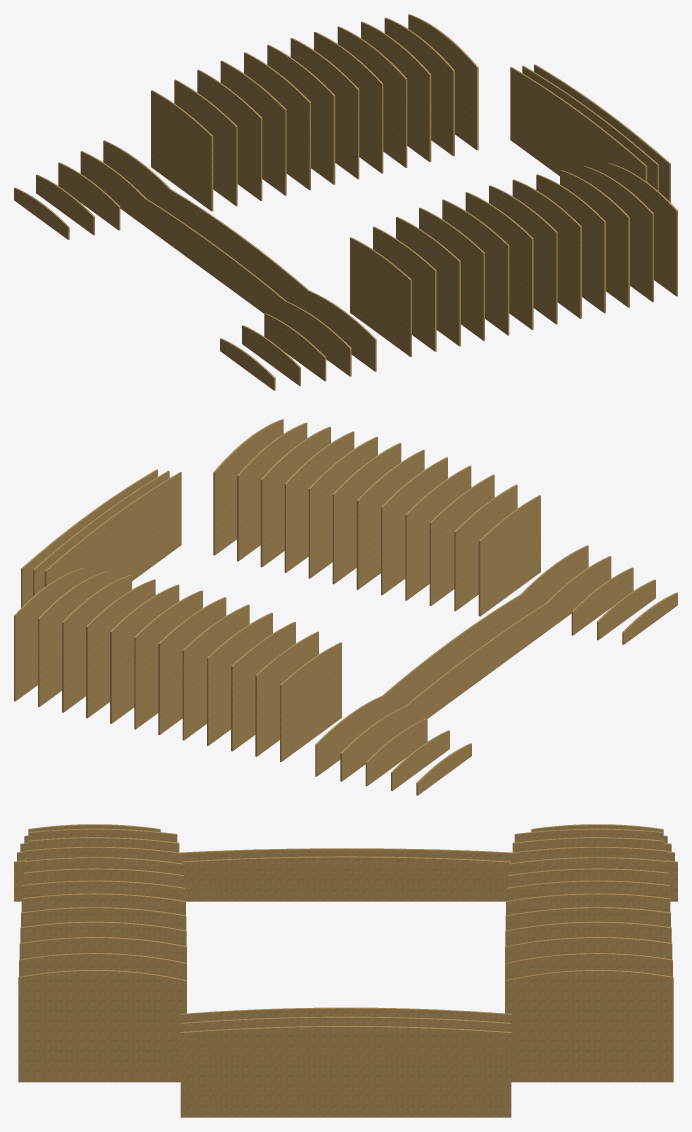
Rendered from DECK JIG__TRANSV FRAMES.glb.
3 views of the same model, one above another, from view 1: azimuth 30°, elevation 25°; view 2: azimuth 150°, elevation 25°; view 3: azimuth 270°, elevation 25° (orthographic). The views are drawn at different scales.
Visible parts, largest first — view 1: TRANSV FRAMES; view 2: TRANSV FRAMES; view 3: TRANSV FRAMES.
Part boxes in pixels (<box>): TRANSV FRAMES: <box>14,14,677,390</box>; TRANSV FRAMES: <box>14,419,677,795</box>; TRANSV FRAMES: <box>14,824,677,1117</box>.
Size of the model in its own units: 5.89 by 1.18 by 6.04.
1 material, 1 textured.
